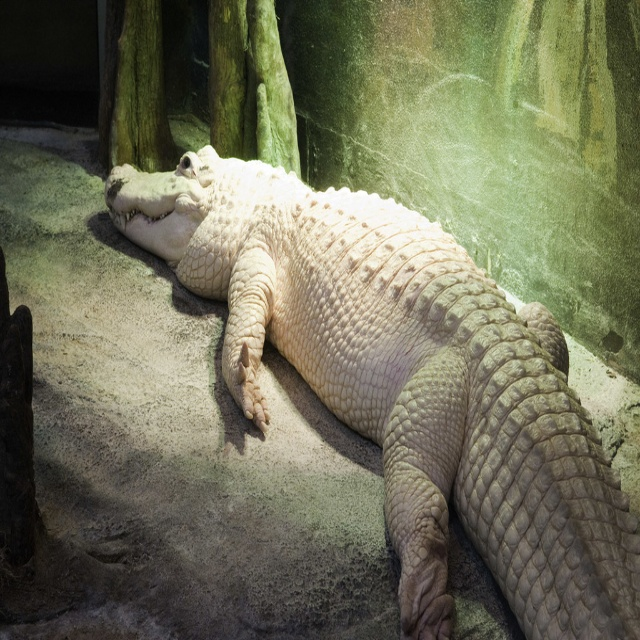Crocodile: (103, 143, 640, 639)
